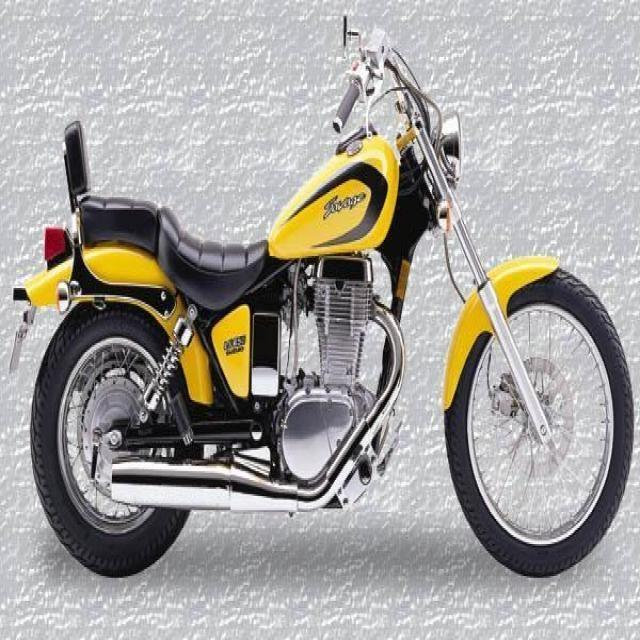Motorcycle: (16, 31, 636, 594)
